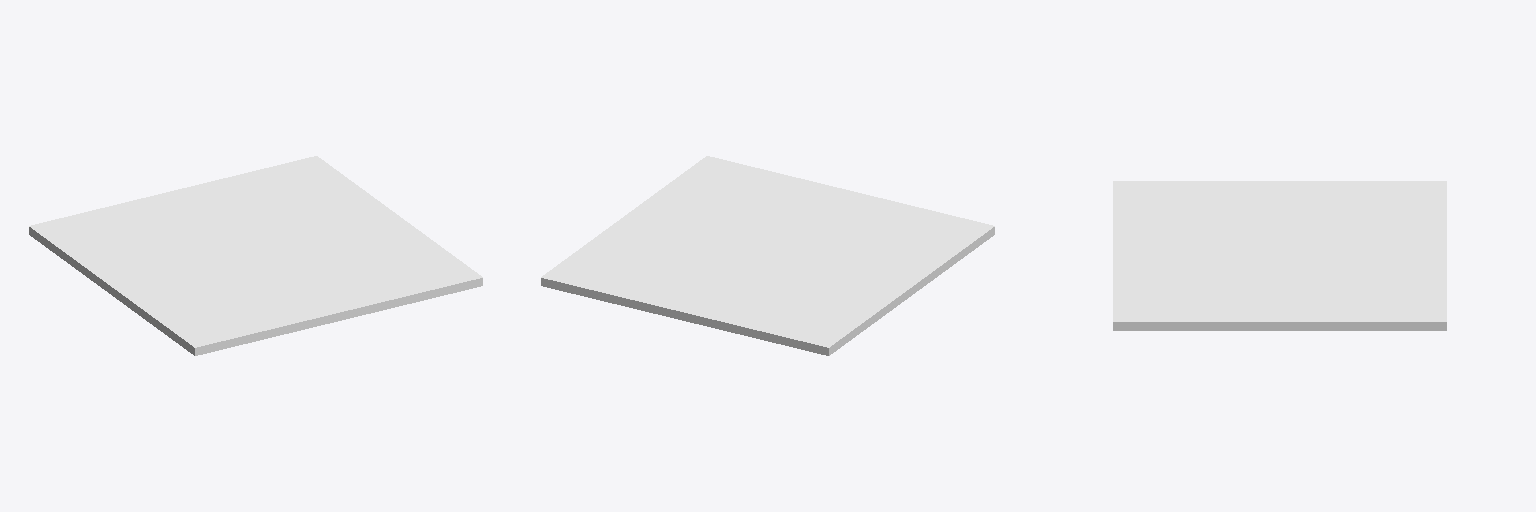
The model's file is fenetre-0.obj.
3 renders of one model, left to right at view 1: azimuth 30°, elevation 25°; view 2: azimuth 150°, elevation 25°; view 3: azimuth 270°, elevation 25°, orthographic.
Visible parts, largest first — view 1: object 1; view 2: object 1; view 3: object 1.
Boxes of the visible parts, x1,y1,x2,y2 form: object 1: [29, 156, 482, 355]; object 1: [541, 156, 994, 355]; object 1: [1113, 181, 1446, 330].
Bounding box in the file's own units: 3.6 × 0.1 × 3.6.